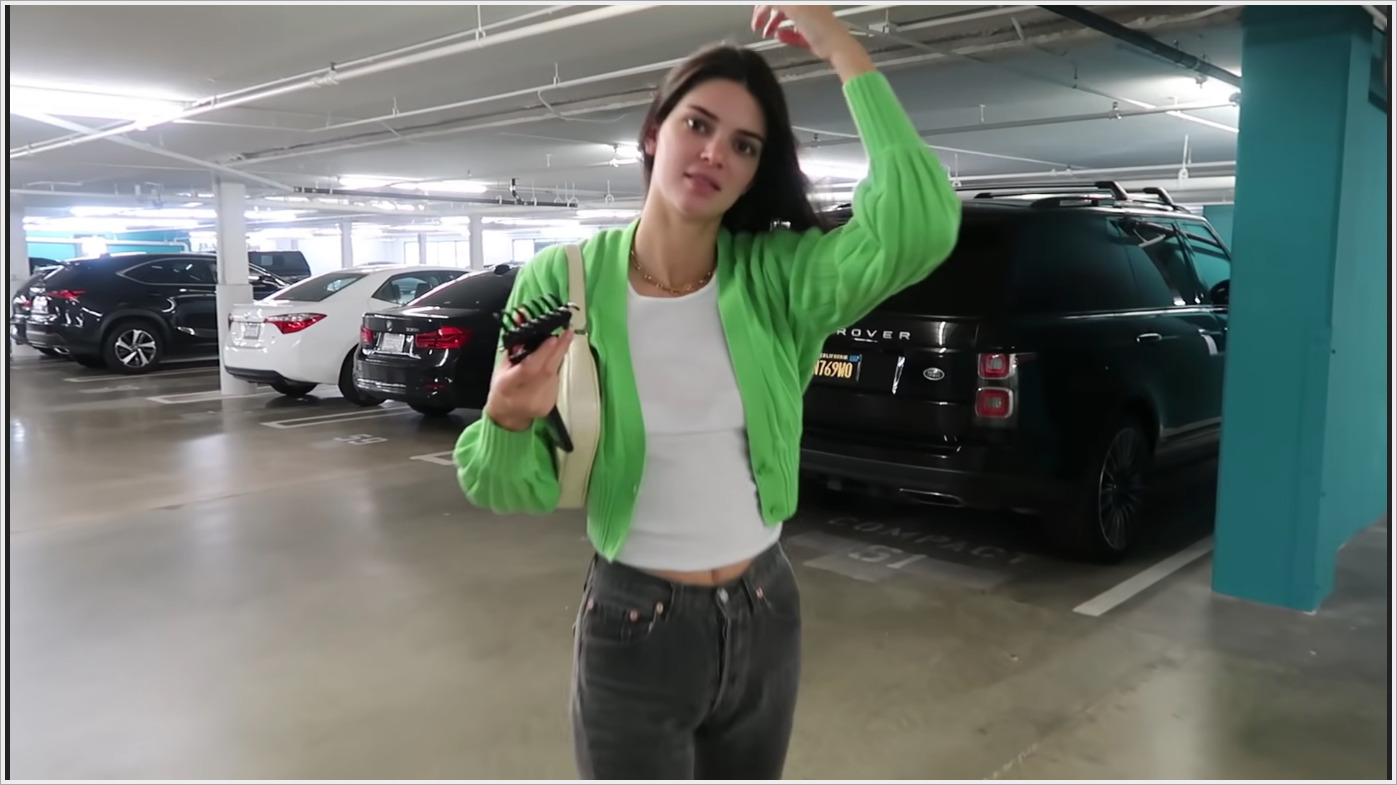hand: (483, 327, 580, 429), (751, 0, 865, 66)
